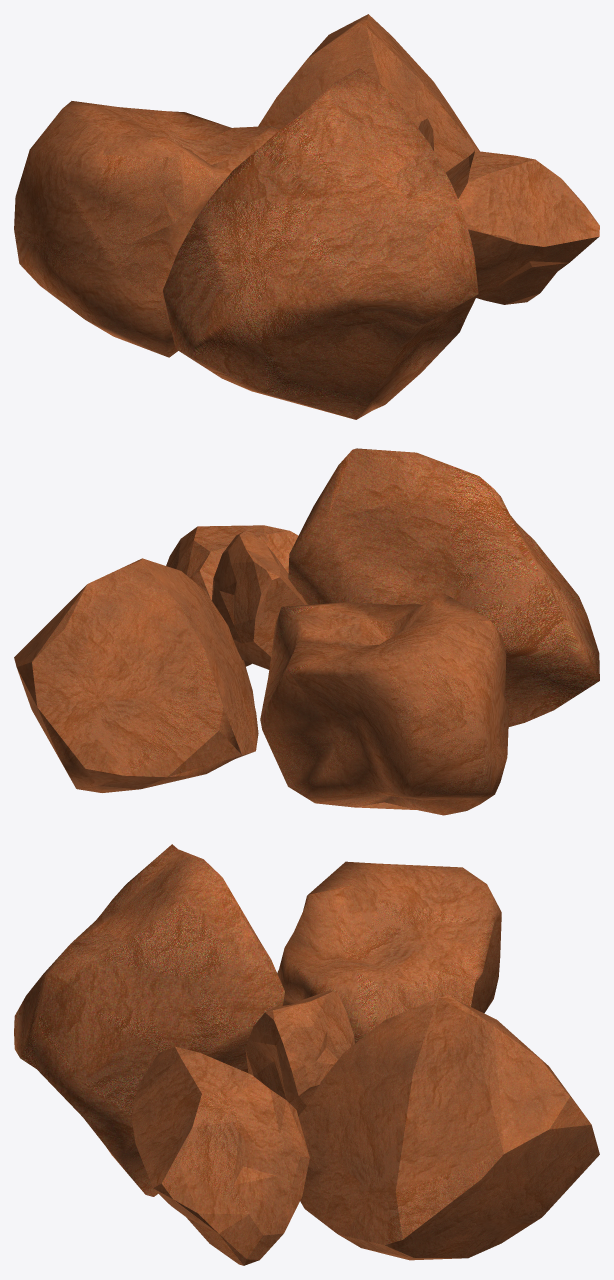
The model's file is BrickPile.FBX.
3 views of the same model, one above another, from view 1: azimuth 30°, elevation 25°; view 2: azimuth 150°, elevation 25°; view 3: azimuth 270°, elevation 25° (orthographic). The views are drawn at different scales.
Parts seen in each view (by area): view 1: GeoSphere005, GeoSphere007, GeoSphere008, GeoSphere009; view 2: GeoSphere007, GeoSphere005, GeoSphere009, GeoSphere010, GeoSphere008; view 3: GeoSphere009, GeoSphere005, GeoSphere007, GeoSphere008, GeoSphere010.
Boxes of the visible parts, x1=… form: GeoSphere005: x1=163, y1=68, x2=478, y2=419; GeoSphere007: x1=14, y1=101, x2=281, y2=357; GeoSphere008: x1=445, y1=151, x2=599, y2=304; GeoSphere009: x1=258, y1=14, x2=479, y2=172; GeoSphere007: x1=260, y1=593, x2=509, y2=815; GeoSphere005: x1=288, y1=448, x2=599, y2=726; GeoSphere009: x1=14, y1=558, x2=258, y2=792; GeoSphere010: x1=211, y1=531, x2=307, y2=669; GeoSphere008: x1=166, y1=525, x2=298, y2=666; GeoSphere009: x1=298, y1=995, x2=599, y2=1260; GeoSphere005: x1=14, y1=844, x2=284, y2=1196; GeoSphere007: x1=277, y1=861, x2=501, y2=1043; GeoSphere008: x1=131, y1=1046, x2=309, y2=1265; GeoSphere010: x1=245, y1=990, x2=354, y2=1116.
Size of the model in its own units: 62.23 by 40.66 by 64.6.
Materials: 1 (1 with a texture image).
